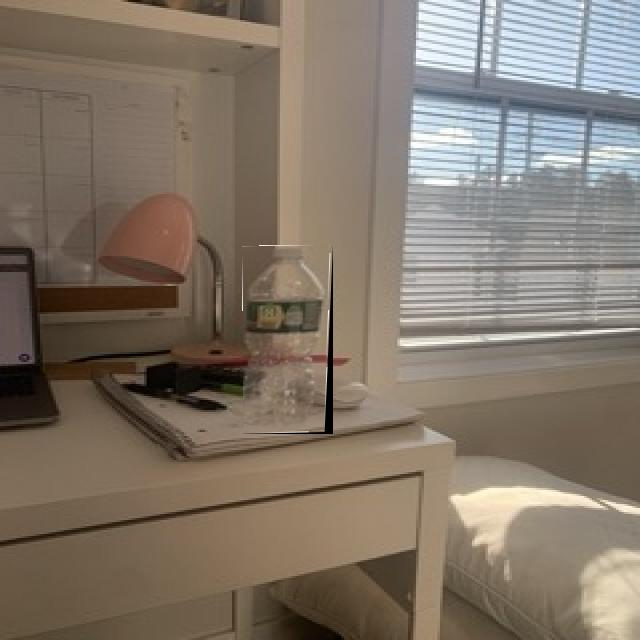water_bottle: (243, 246, 333, 434)
